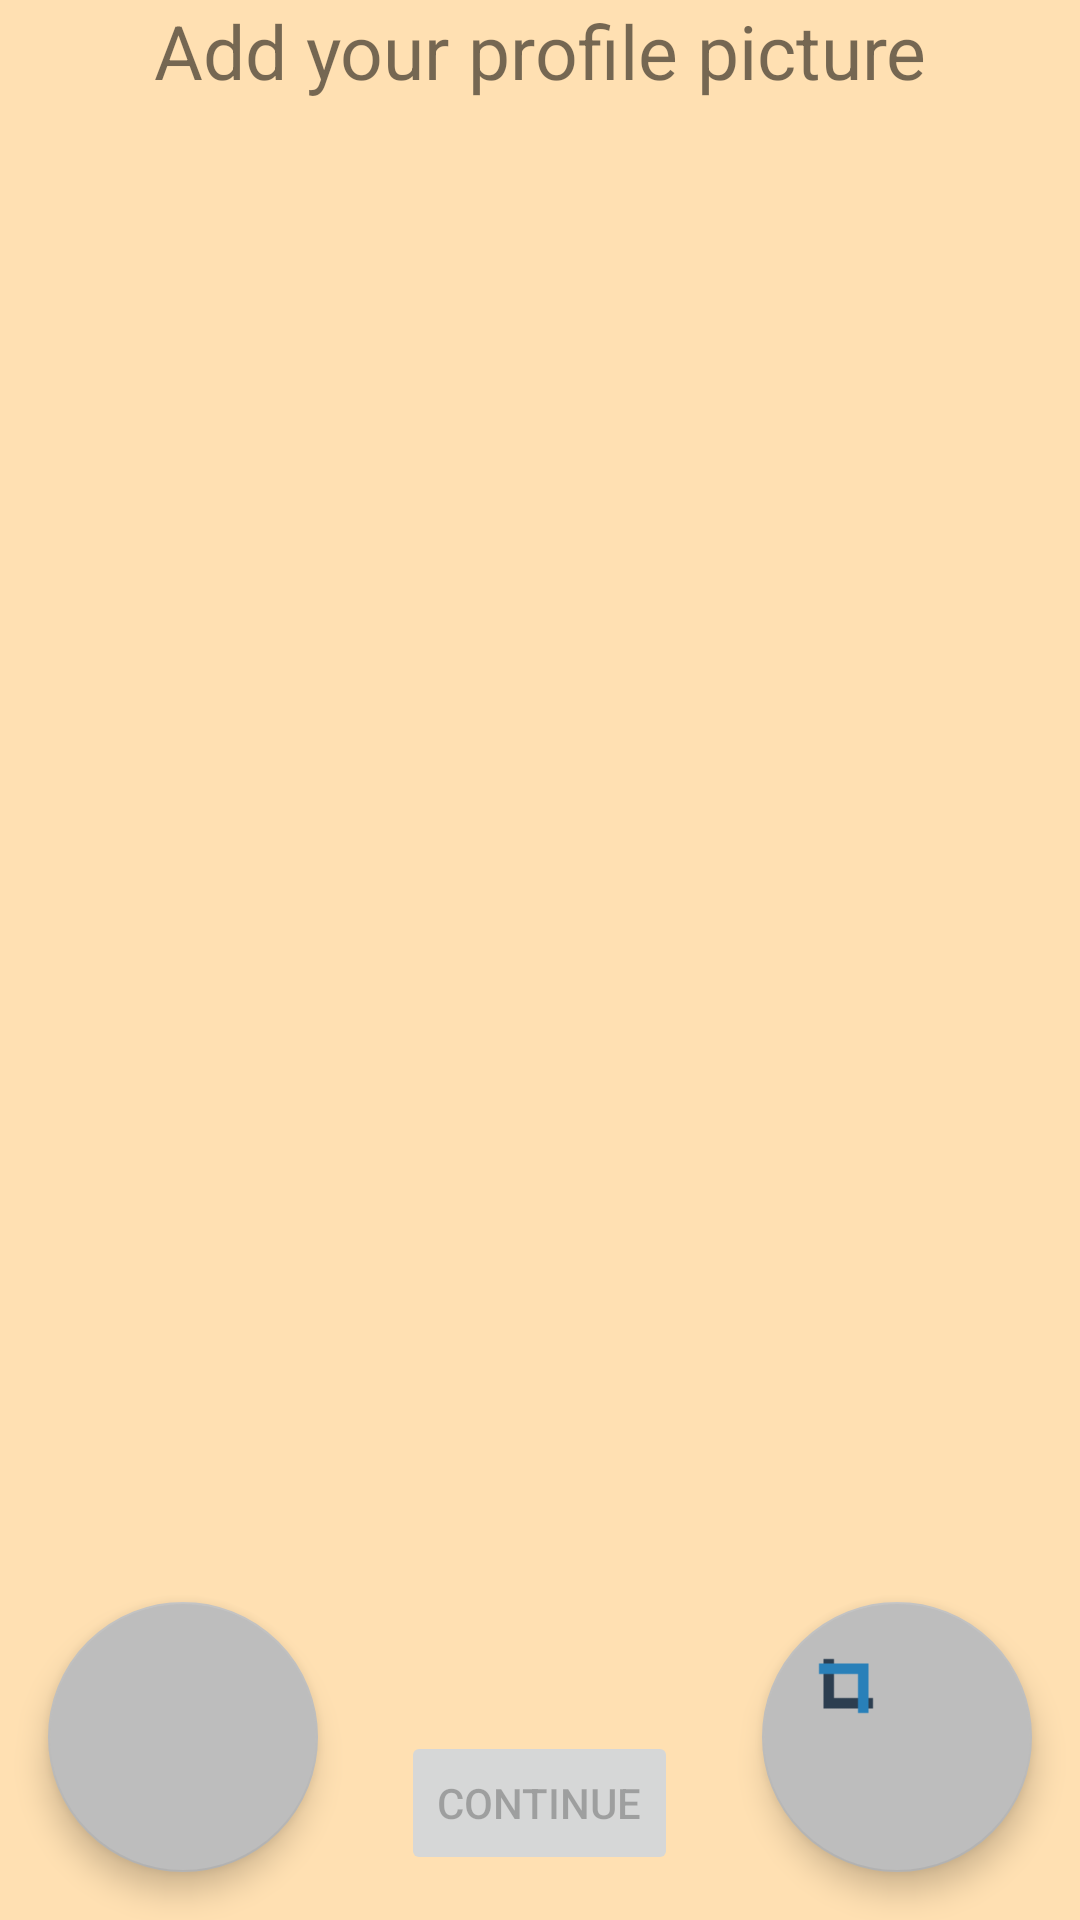

Where icons sit on this 1080w x 1920h app screen, as (x1, y1, x2, y2):
cropicon: (762, 1602, 1032, 1872)
